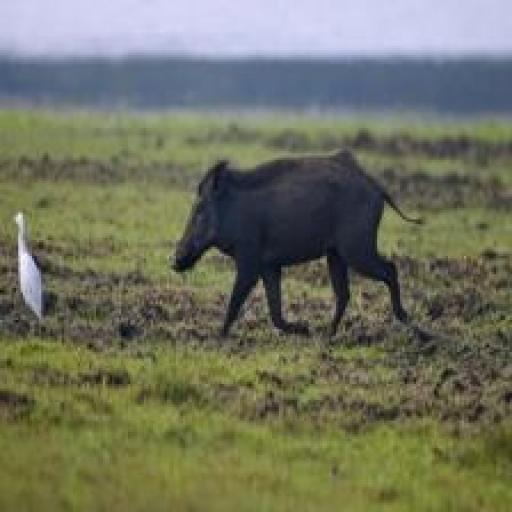Pig: (171, 146, 422, 344)
